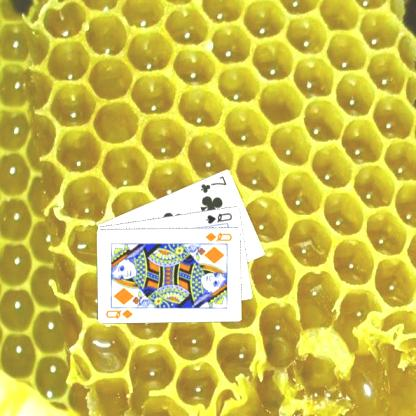7C: (198, 173, 228, 194)
QD: (203, 229, 234, 243), (103, 307, 134, 320)
QS: (203, 210, 233, 224)
